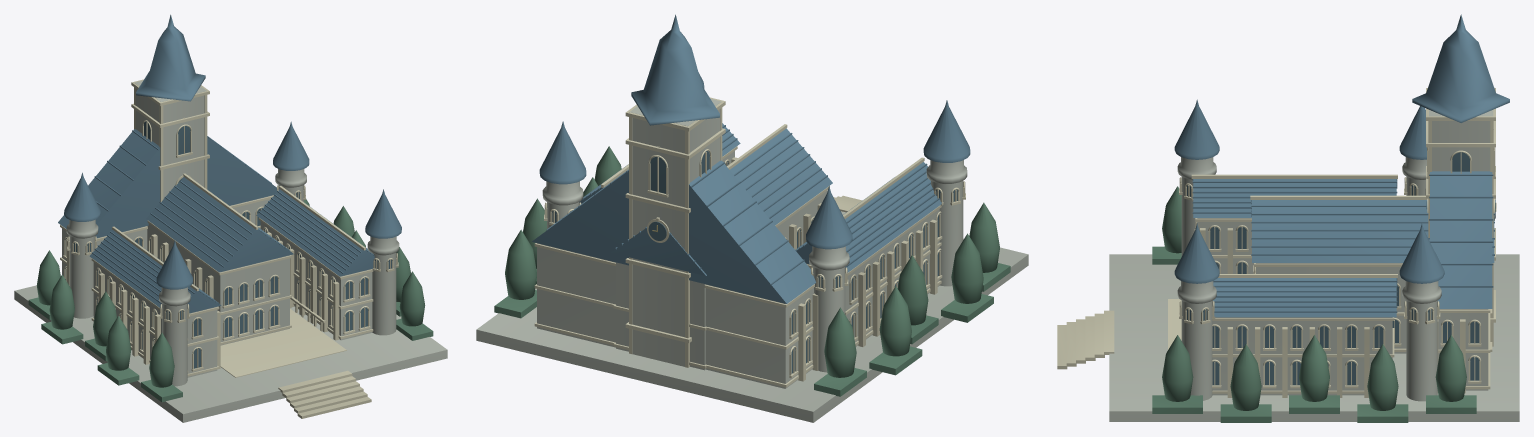
Rendered from academy-sanctuary.glb.
The picture shows the model from 3 angles, left to right: view 1: azimuth 30°, elevation 25°; view 2: azimuth 150°, elevation 25°; view 3: azimuth 270°, elevation 25°; orthographic projection. The views are drawn at different scales.
Parts seen in each view (by area): view 1: Skybound academy sanctuary; view 2: Skybound academy sanctuary; view 3: Skybound academy sanctuary.
Part boxes in pixels (x1,y1,x2,y2): Skybound academy sanctuary: (14, 14, 447, 422); Skybound academy sanctuary: (476, 14, 1028, 422); Skybound academy sanctuary: (1057, 14, 1519, 422).
Size of the model in its own units: 21.8 by 18.89 by 23.66.
